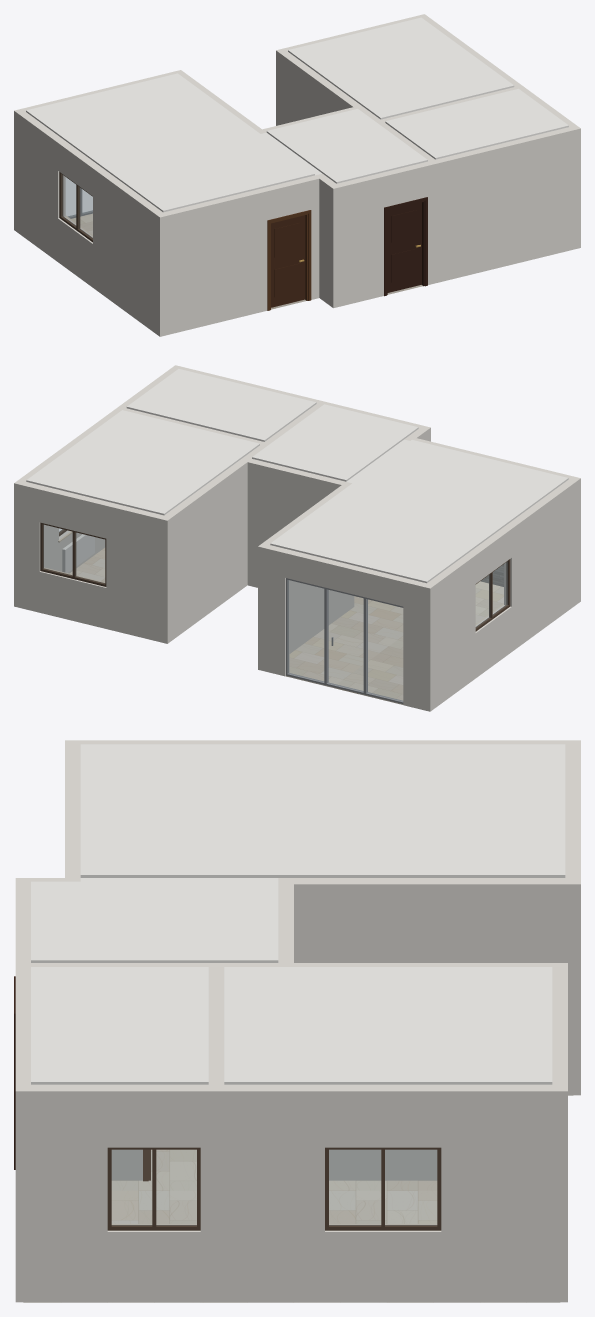
File: the_office.glb
3 renders of one model, top to bottom at view 1: azimuth 30°, elevation 25°; view 2: azimuth 150°, elevation 25°; view 3: azimuth 270°, elevation 25°, orthographic. The views are drawn at different scales.
Parts seen in each view (by area): view 1: Hall ceiling, Hall west (stone) (×4), Rooms south, Hall south (stone) (×3), Room 1 ceiling, Entry south (×3), Room 2 ceiling, Entry ceiling, Room 1 west, Door panel (×4), Entry step, Door leaf (+9 smaller); view 2: Hall ceiling, Hall west (stone) (×4), Room 1 north (×4), Room 1 ceiling, Room 1 west, Hall north (×3), Glass door panes, Hall floor, Room 2 ceiling, Entry ceiling, Entry north, Hall east (+8 smaller); view 3: Rooms east (×7), Hall ceiling, Room 1 ceiling, Hall east, Room 2 ceiling, Entry ceiling, Window glass (×2), Room 1 north (×3), Rooms south, Room 1 floor, Hall north (×2), Room 1 west (+8 smaller).
Part boxes in pixels (x1,y1,x2,y2): Hall ceiling: (26,73,314,212); Hall west (stone) (×4): (14,110,167,336); Rooms south: (431,125,580,283); Hall south (stone) (×3): (155,173,325,336); Room 1 ceiling: (288,17,514,119); Entry south (×3): (329,159,439,307); Room 2 ceiling: (385,88,568,159); Entry ceiling: (266,108,427,183); Room 1 west: (276,48,360,125); Door panel (×4): (274,210,416,297); Entry step: (317,174,340,308); Door leaf: (271,215,305,307); Hall ceiling: (270,440,568,583); Hall west (stone) (×4): (422,476,580,711); Room 1 north (×4): (14,480,171,643); Room 1 ceiling: (26,410,259,515); Room 1 west: (159,460,247,643); Hall north (×3): (258,543,434,711); Glass door panes: (288,580,402,700); Hall floor: (285,581,503,704); Room 2 ceiling: (126,369,316,441); Entry ceiling: (252,404,418,481); Entry north: (240,457,354,609); Hall east: (258,482,354,671); Rooms east (×7): (16,1084,567,1302); Hall ceiling: (80,744,565,877); Room 1 ceiling: (224,967,552,1084); Hall east: (278,878,580,1094); Room 2 ceiling: (31,967,208,1084); Entry ceiling: (31,881,278,962); Window glass (×2): (112,1150,436,1225); Room 1 north (×3): (552,963,567,1302); Rooms south: (15,963,30,1302); Room 1 floor: (216,1180,559,1302); Hall north (×2): (565,763,580,1095); Room 1 west: (286,963,567,1180).
Size of the model in its own units: 10.7 by 3.09 by 7.31.
14 materials, 2 textured.
